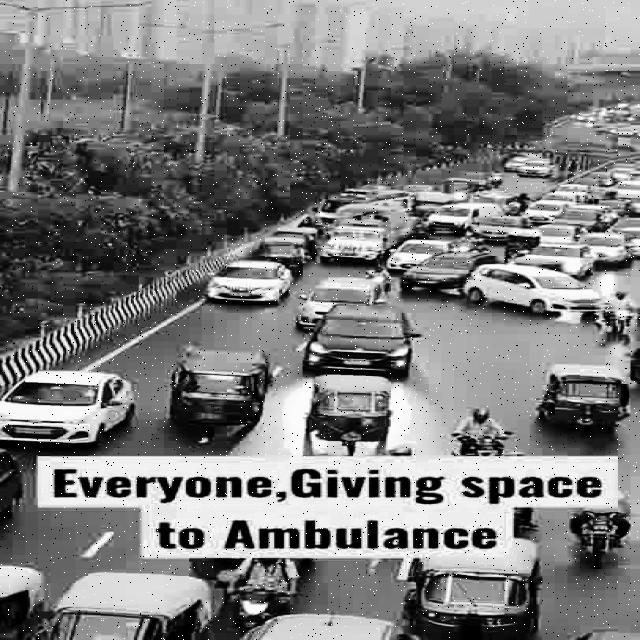Ambulance: (315, 186, 401, 206)
